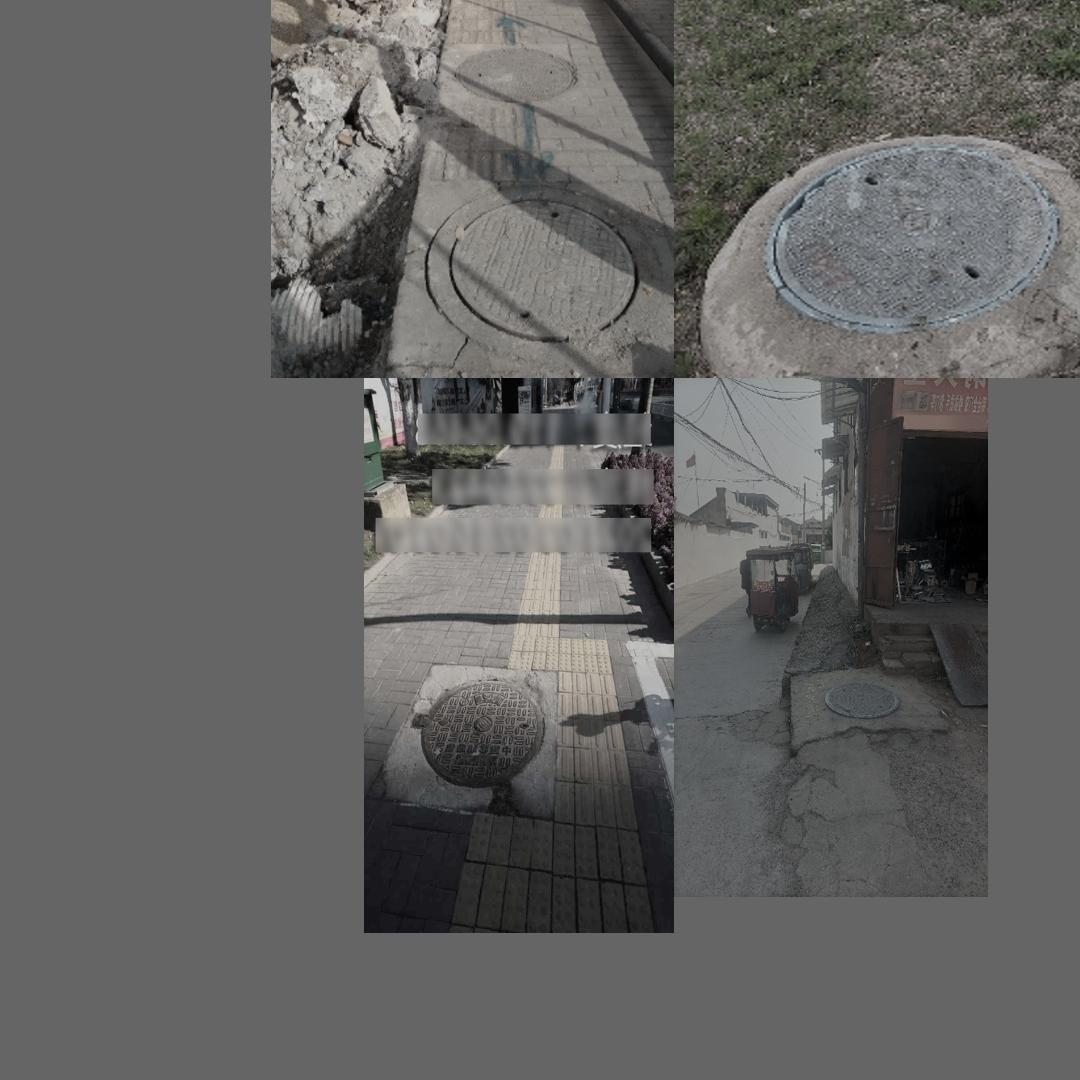good: (762, 132, 1063, 331), (427, 185, 663, 363), (409, 679, 543, 788), (458, 45, 580, 104), (821, 671, 901, 716)
